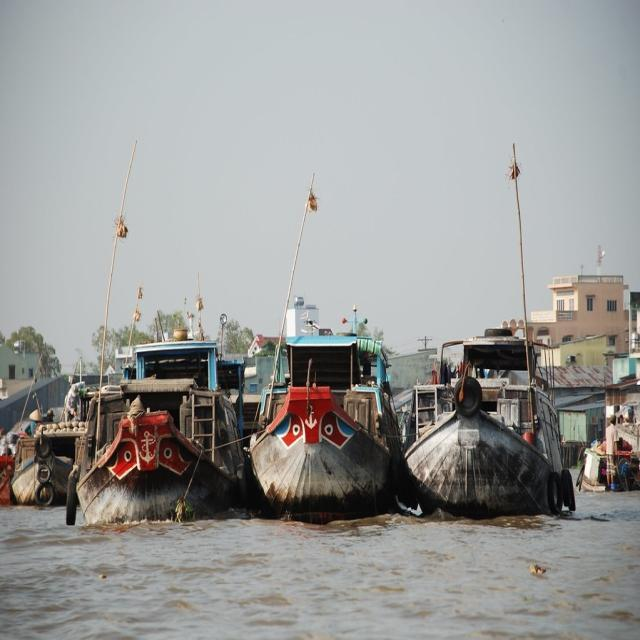boat: (238, 319, 400, 524), (409, 352, 565, 532), (74, 382, 228, 522), (12, 438, 65, 503)
